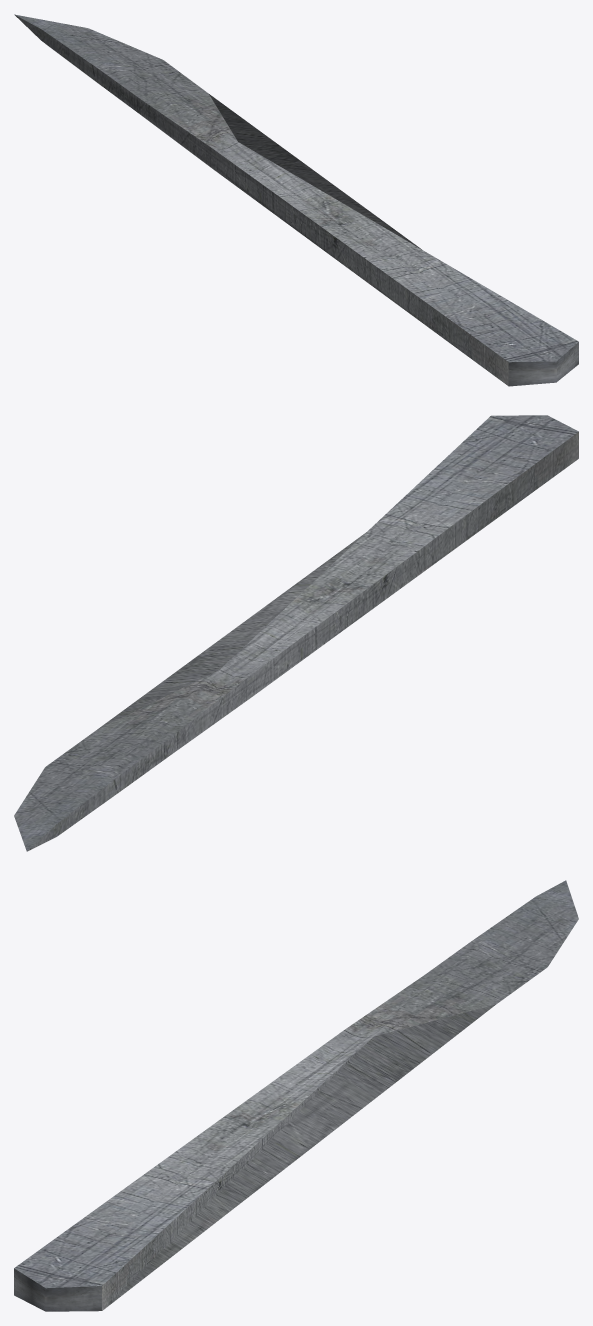
The model's file is faca.FBX.
3 views of the same model, one above another, from view 1: azimuth 30°, elevation 25°; view 2: azimuth 150°, elevation 25°; view 3: azimuth 330°, elevation 25° (orthographic). The views are drawn at different scales.
Visible parts, largest first — view 1: Box002; view 2: Box002; view 3: Box002.
Part boxes in pixels (x1=…): Box002: x1=14, y1=14, x2=578, y2=386; Box002: x1=14, y1=415, x2=578, y2=851; Box002: x1=14, y1=880, x2=578, y2=1311.
Bounding box in the file's own units: 0.1013 × 0.0316 × 1.19.
1 material, 1 textured.
